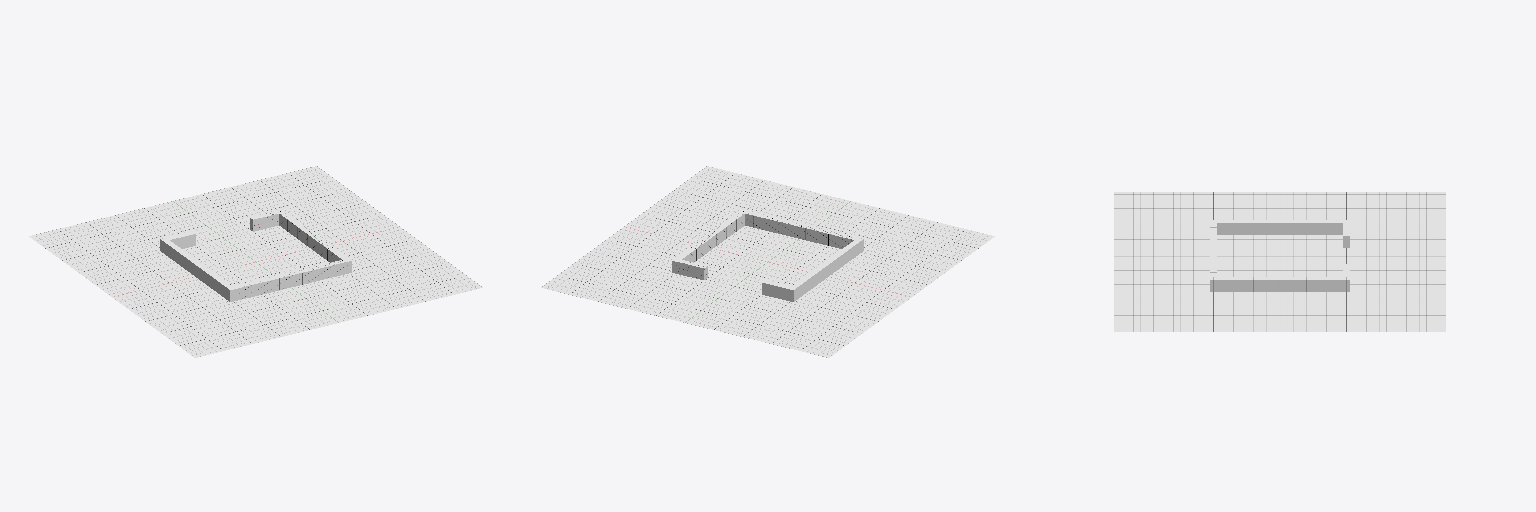
The picture shows the model from 3 angles: view 1: azimuth 30°, elevation 25°; view 2: azimuth 150°, elevation 25°; view 3: azimuth 270°, elevation 25°; orthographic projection.
Parts seen in each view (by area): view 1: object40, object24, object32, object16; view 2: object40, object24, object32, object16; view 3: object40, object16, object32.
Boxes of the visible parts, <box> form: object40: <box>29,166,482,357</box>; object24: <box>233,260,345,300</box>; object32: <box>160,238,235,301</box>; object16: <box>276,210,351,273</box>; object40: <box>541,166,994,357</box>; object24: <box>745,211,856,248</box>; object32: <box>788,238,863,301</box>; object16: <box>672,210,747,273</box>; object40: <box>1114,192,1445,331</box>; object16: <box>1210,277,1349,291</box>; object32: <box>1210,220,1349,234</box>.
Bounding box in the file's own units: 50 × 2 × 50.
Materials: 6 (4 with a texture image).